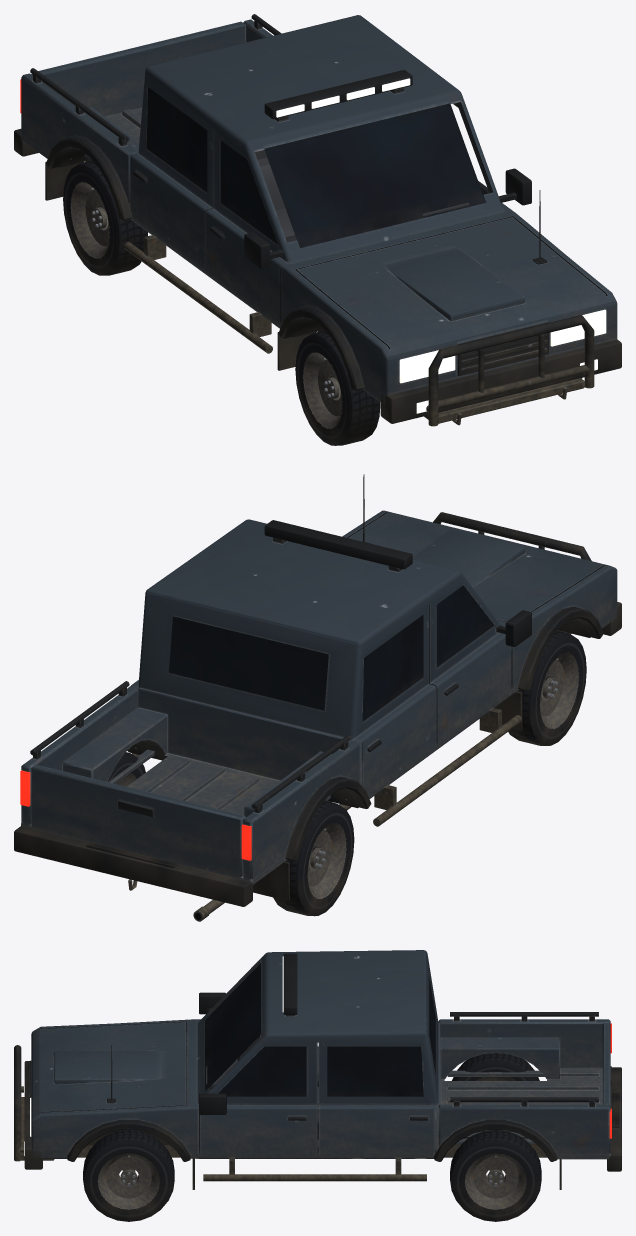
The model's file is pickup.glb.
3 renders of one model, top to bottom at view 1: azimuth 30°, elevation 25°; view 2: azimuth 150°, elevation 25°; view 3: azimuth 270°, elevation 25°, orthographic. The views are drawn at different scales.
Visible parts, largest first — view 1: body, wheel_fl, wheel_rl; view 2: body, wheel_rl, wheel_fl, wheel_rr; view 3: body, wheel_fr, wheel_rr, wheel_rl.
Part boxes in pixels (<box>): body: <box>14,14,621,426</box>; wheel_fl: <box>295,330,380,445</box>; wheel_rl: <box>63,160,147,275</box>; body: <box>14,474,621,921</box>; wheel_rl: <box>273,800,354,916</box>; wheel_fl: <box>508,630,586,745</box>; wheel_rr: <box>108,752,145,786</box>; body: <box>14,950,621,1189</box>; wheel_fr: <box>83,1130,174,1221</box>; wheel_rr: <box>450,1130,541,1221</box>; wheel_rl: <box>452,1053,539,1080</box>.
Size of the model in its own units: 2.16 by 1.9 by 5.3.
Materials: 2 (2 with a texture image).
